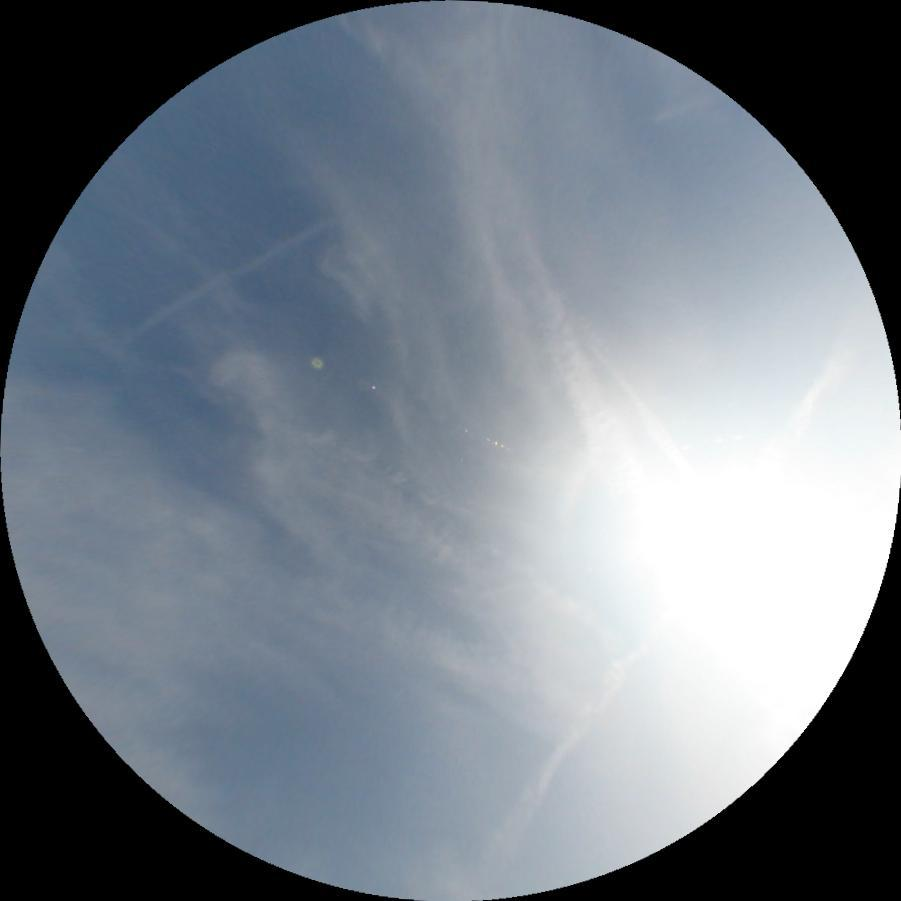contrail veryold: (460, 330, 879, 893), (158, 331, 632, 728), (177, 497, 585, 745), (123, 210, 336, 341), (555, 299, 700, 477)
